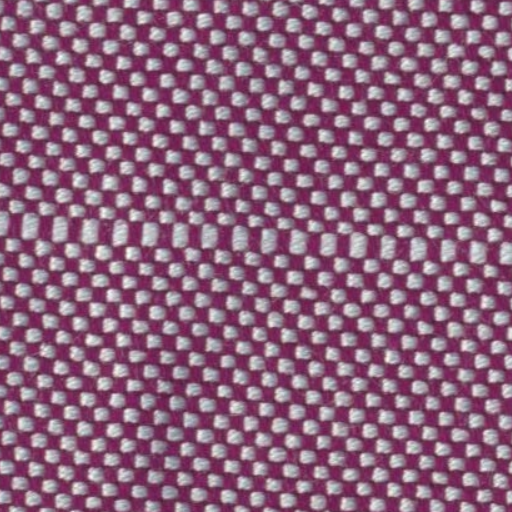TuoSha: (5, 187, 501, 310)
